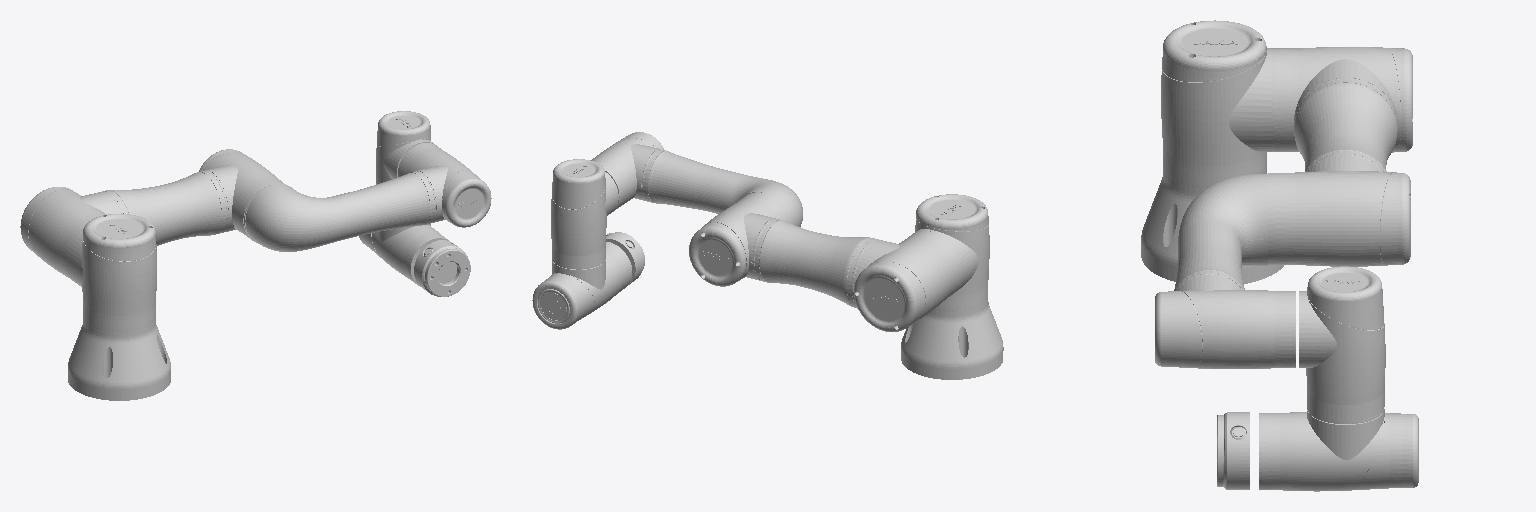
robot.urdf — jaka_zu3:
<?xml version="1.0" encoding="utf-8"?>
<!-- This URDF was automatically created by SolidWorks to URDF Exporter! Originally created by [author] ([email redacted]) 
     Commit Version: 1.5.1-0-g916b5db  Build Version: 1.5.7152.31018
     For more information, please see http://wiki.ros.org/sw_urdf_exporter -->
<robot
  name="jaka_zu3">

  <link name="dummy" />
  <joint name="dummy_joint" type="fixed">
     <parent link="dummy"/>
     <child link="Link_0"/>
  </joint>

  <link
    name="Link_0">
    <inertial>
      <origin
        xyz="-0.0015666 1.7294E-05 0.05088"
        rpy="0 0 0" />
      <mass
        value="3.6417" />
      <inertia
        ixx="0.0050627"
        ixy="-6.9042E-07"
        ixz="-8.4162E-05"
        iyy="0.0051147"
        iyz="2.9665E-06"
        izz="0.006537" />
    </inertial>
    <visual>
      <origin
        xyz="0 0 0"
        rpy="0 0 0" />
      <geometry>
        <mesh
          filename="package://jaka_rviz/meshes/jaka_zu3_meshes/Link_0.STL" />
      </geometry>
      <material
        name="">
        <color
          rgba="0.84706 0.84706 0.84706 1" />
      </material>
    </visual>
    <collision>
      <origin
        xyz="0 0 0"
        rpy="0 0 0" />
      <geometry>
        <mesh
          filename="package://jaka_rviz/meshes/jaka_zu3_meshes/Link_0.STL" />
      </geometry>
    </collision>
  </link>
  <link
    name="Link_1">
    <inertial>
      <origin
        xyz="-3.8197E-07 0.0039623 -0.0033438"
        rpy="0 0 0" />
      <mass
        value="7.0387" />
      <inertia
        ixx="0.012561"
        ixy="8.1417E-08"
        ixz="-1.8051E-08"
        iyy="0.011919"
        iyz="-8.7195E-05"
        izz="0.0085506" />
    </inertial>
    <visual>
      <origin
        xyz="0 0 0"
        rpy="0 0 0" />
      <geometry>
        <mesh
          filename="package://jaka_rviz/meshes/jaka_zu3_meshes/Link_1.STL" />
      </geometry>
      <material
        name="">
        <color
          rgba="0.84706 0.84706 0.84706 1" />
      </material>
    </visual>
    <collision>
      <origin
        xyz="0 0 0"
        rpy="0 0 0" />
      <geometry>
        <mesh
          filename="package://jaka_rviz/meshes/jaka_zu3_meshes/Link_1.STL" />
      </geometry>
    </collision>
  </link>
  <joint
    name="joint_1"
    type="revolute">
    <origin
      xyz="0 0 0.15055"
      rpy="0 0 0" />
    <parent
      link="Link_0" />
    <child
      link="Link_1" />
    <axis
      xyz="0 0 -1" />
    <limit
      lower="-4.71238"
      upper="4.71238"
      effort="330"
      velocity="3.14159" />
  </joint>
  <link
    name="Link_2">
    <inertial>
      <origin
        xyz="0.11439 -6.6036E-07 -0.11395"
        rpy="0 0 0" />
      <mass
        value="18.247" />
      <inertia
        ixx="0.025431"
        ixy="1.2399E-06"
        ixz="-0.0016148"
        iyy="0.21741"
        iyz="-2.144E-08"
        izz="0.20927" />
    </inertial>
    <visual>
      <origin
        xyz="0 0 0"
        rpy="0 0 0" />
      <geometry>
        <mesh
          filename="package://jaka_rviz/meshes/jaka_zu3_meshes/Link_2.STL" />
      </geometry>
      <material
        name="">
        <color
          rgba="0.84706 0.84706 0.84706 1" />
      </material>
    </visual>
    <collision>
      <origin
        xyz="0 0 0"
        rpy="0 0 0" />
      <geometry>
        <mesh
          filename="package://jaka_rviz/meshes/jaka_zu3_meshes/Link_2.STL" />
      </geometry>
    </collision>
  </link>
  <joint
    name="joint_2"
    type="revolute">
    <origin
      xyz="0 0 0"
      rpy="1.5708 0 0" />
    <parent
      link="Link_1" />
    <child
      link="Link_2" />
    <axis
      xyz="0 0 1" />
    <limit
      lower="-1.48352"
      upper="4.62512"
      effort="330"
      velocity="3.14159" />
  </joint>
  <link
    name="Link_3">
    <inertial>
      <origin
        xyz="0.13218 1.2348E-05 -0.0083734"
        rpy="0 0 0" />
      <mass
        value="9.5247" />
      <inertia
        ixx="0.0094701"
        ixy="7.4928E-07"
        ixz="-0.0012353"
        iyy="0.088902"
        iyz="6.5058E-08"
        izz="0.084947" />
    </inertial>
    <visual>
      <origin
        xyz="0 0 0"
        rpy="0 0 0" />
      <geometry>
        <mesh
          filename="package://jaka_rviz/meshes/jaka_zu3_meshes/Link_3.STL" />
      </geometry>
      <material
        name="">
        <color
          rgba="0.84706 0.84706 0.84706 1" />
      </material>
    </visual>
    <collision>
      <origin
        xyz="0 0 0"
        rpy="0 0 0" />
      <geometry>
        <mesh
          filename="package://jaka_rviz/meshes/jaka_zu3_meshes/Link_3.STL" />
      </geometry>
    </collision>
  </link>
  <joint
    name="joint_3"
    type="revolute">
    <origin
      xyz="0.248 0 0"
      rpy="0 0 0" />
    <parent
      link="Link_2" />
    <child
      link="Link_3" />
    <axis
      xyz="0 0 1" />
    <limit
      lower="-3.05432"
      upper="3.05432"
      effort="330"
      velocity="3.14159" />
  </joint>
  <link
    name="Link_4">
    <inertial>
      <origin
        xyz="6.5068E-08 -0.014052 0.0031614"
        rpy="0 0 0" />
      <mass
        value="3.8728" />
      <inertia
        ixx="0.0058546"
        ixy="-1.505E-08"
        ixz="-1.7928E-08"
        iyy="0.0025893"
        iyz="-0.00019825"
        izz="0.0056328" />
    </inertial>
    <visual>
      <origin
        xyz="0 0 0"
        rpy="0 0 0" />
      <geometry>
        <mesh
          filename="package://jaka_rviz/meshes/jaka_zu3_meshes/Link_4.STL" />
      </geometry>
      <material
        name="">
        <color
          rgba="0.84706 0.84706 0.84706 1" />
      </material>
    </visual>
    <collision>
      <origin
        xyz="0 0 0"
        rpy="0 0 0" />
      <geometry>
        <mesh
          filename="package://jaka_rviz/meshes/jaka_zu3_meshes/Link_4.STL" />
      </geometry>
    </collision>
  </link>
  <joint
    name="joint_4"
    type="revolute">
    <origin
      xyz="0.228 1.1925E-05 -0.115"
      rpy="0 0 0" />
    <parent
      link="Link_3" />
    <child
      link="Link_4" />
    <axis
      xyz="0 0 1" />
    <limit
      lower="-1.48352"
      upper="4.62512"
      effort="330"
      velocity="3.14159" />
  </joint>
  <link
    name="Link_5">
    <inertial>
      <origin
        xyz="7.9256E-08 0.0068655 -0.0029086"
        rpy="0 0 0" />
      <mass
        value="4.3241" />
      <inertia
        ixx="0.007903"
        ixy="4.9677E-09"
        ixz="1.0083E-08"
        iyy="0.0028281"
        iyz="-0.00013094"
        izz="0.0076792" />
    </inertial>
    <visual>
      <origin
        xyz="0 0 0"
        rpy="0 0 0" />
      <geometry>
        <mesh
          filename="package://jaka_rviz/meshes/jaka_zu3_meshes/Link_5.STL" />
      </geometry>
      <material
        name="">
        <color
          rgba="0.84706 0.84706 0.84706 1" />
      </material>
    </visual>
    <collision>
      <origin
        xyz="0 0 0"
        rpy="0 0 0" />
      <geometry>
        <mesh
          filename="package://jaka_rviz/meshes/jaka_zu3_meshes/Link_5.STL" />
      </geometry>
    </collision>
  </link>
  <joint
    name="joint_5"
    type="revolute">
    <origin
      xyz="0 -0.1175 0"
      rpy="1.5708 0 0" />
    <parent
      link="Link_4" />
    <child
      link="Link_5" />
    <axis
      xyz="0 0 -1" />
    <limit
      lower="-4.71238"
      upper="4.71238"
      effort="330"
      velocity="3.14159" />
  </joint>
  <link
    name="Link_6">
    <inertial>
      <origin
        xyz="4.9731E-05 -2.965E-05 -0.016372"
        rpy="0 0 0" />
      <mass
        value="0.7876" />
      <inertia
        ixx="0.00028184"
        ixy="-6.9755E-07"
        ixz="-4.4645E-07"
        iyy="0.00028506"
        iyz="6.0031E-07"
        izz="0.00045635" />
    </inertial>
    <visual>
      <origin
        xyz="0 0 0"
        rpy="0 0 0" />
      <geometry>
        <mesh
          filename="package://jaka_rviz/meshes/jaka_zu3_meshes/Link_6.STL" />
      </geometry>
      <material
        name="">
        <color
          rgba="0.84706 0.84706 0.84706 1" />
      </material>
    </visual>
    <collision>
      <origin
        xyz="0 0 0"
        rpy="0 0 0" />
      <geometry>
        <mesh
          filename="package://jaka_rviz/meshes/jaka_zu3_meshes/Link_6.STL" />
      </geometry>
    </collision>
  </link>
  <joint
    name="joint_6"
    type="revolute">
    <origin
      xyz="0 0.1065 0"
      rpy="-1.5708 0 0" />
    <parent
      link="Link_5" />
    <child
      link="Link_6" />
    <axis
      xyz="0 0 -1" />
    <limit
      lower="-4.71238"
      upper="4.71238"
      effort="330"
      velocity="3.14159" />
  </joint>
</robot>

--- Facts derived from the render (not from the file) ---
3 views of the same robot in one strip: view 1: azimuth 30°, elevation 25°; view 2: azimuth 150°, elevation 25°; view 3: azimuth 270°, elevation 25° (orthographic).
Robot: jaka_zu3 — 8 links, 7 joints (6 revolute, 1 fixed); root link dummy; default pose: every joint at zero.
Links seen in each view (by area): view 1: Link_3, Link_2, Link_1, Link_0, Link_4, Link_6, Link_5; view 2: Link_2, Link_3, Link_0, Link_4, Link_1, Link_5, Link_6; view 3: Link_2, Link_3, Link_1, Link_4, Link_5, Link_0, Link_6.
Boxes of the visible links, x1,y1,x2,y2 form: Link_3: (245,143,491,251); Link_2: (20,149,285,282); Link_1: (68,214,156,331); Link_0: (68,319,170,400); Link_4: (376,111,436,184); Link_6: (414,240,470,296); Link_5: (359,224,448,285); Link_2: (689,192,962,331); Link_3: (591,132,802,226); Link_0: (901,300,1003,379); Link_4: (551,159,618,269); Link_1: (913,194,989,311); Link_5: (532,242,631,329); Link_6: (606,232,644,284); Link_2: (1268,47,1412,266); Link_3: (1155,174,1295,368); Link_1: (1161,20,1271,187); Link_4: (1299,266,1385,423); Link_5: (1259,409,1418,491); Link_0: (1141,168,1283,283); Link_6: (1217,412,1249,489).
Bounding box of the posed robot: 0.5755 × 0.2435 × 0.2122 m (x, y, z).
Meshes: 7 distinct files referenced, 7 mesh visuals loaded (7 binary STL).
